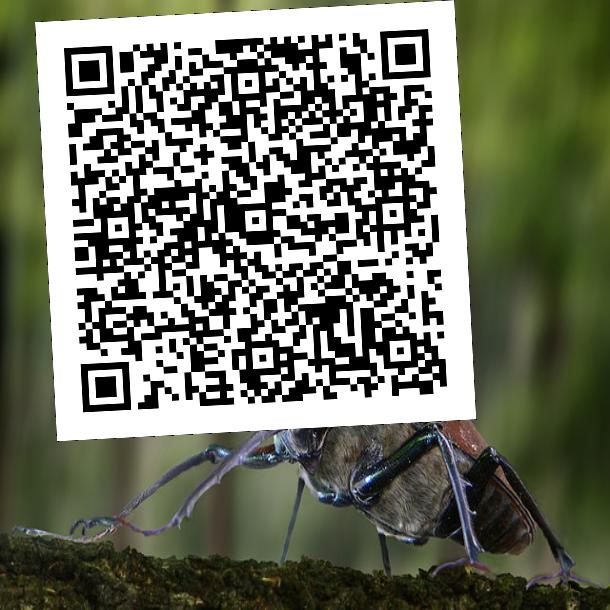qr_code: (35, 0, 476, 441)
